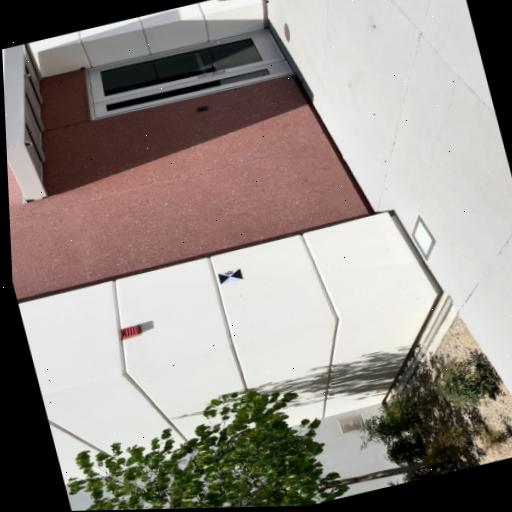target6: (217, 267, 244, 284)
